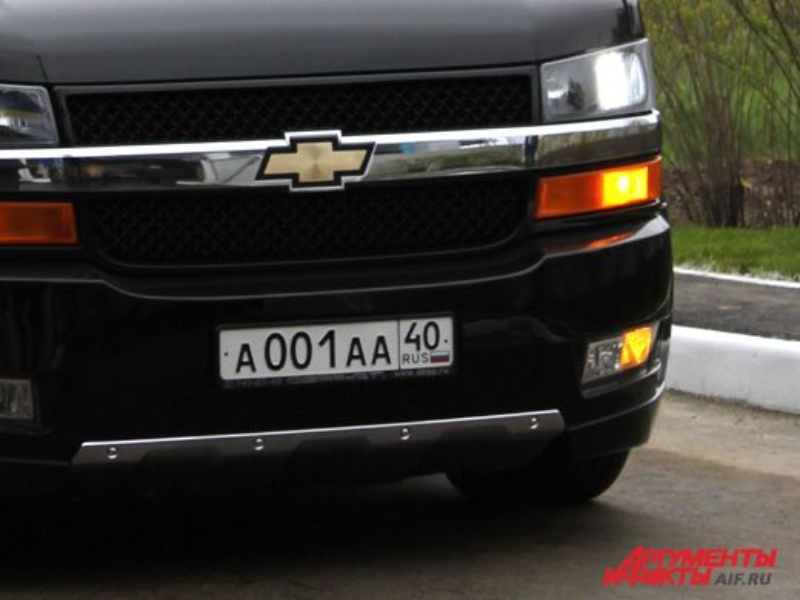car: (1, 1, 674, 534)
plate: (218, 315, 452, 378)
